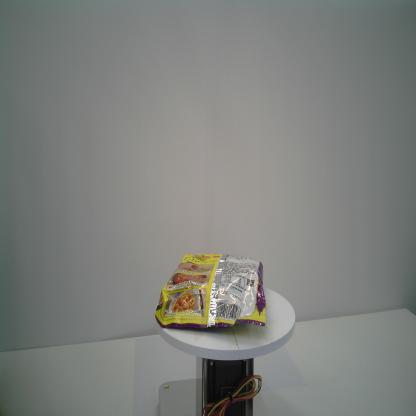Instant Noodles: (154, 252, 268, 334)
